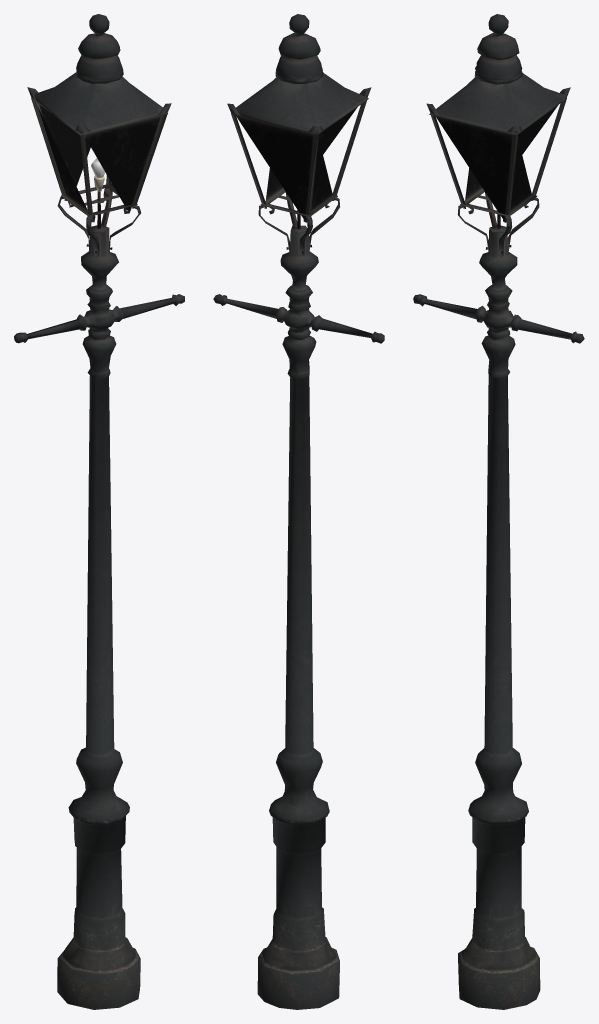
The picture shows the model from 3 angles, left to right: view 1: azimuth 30°, elevation 25°; view 2: azimuth 150°, elevation 25°; view 3: azimuth 330°, elevation 25°; orthographic projection.
Parts seen in each view (by area): view 1: street_lamp_01; view 2: street_lamp_01; view 3: street_lamp_01.
Boxes of the visible parts, left/top/right/bottom form: street_lamp_01: left=14, top=14, right=184, bottom=1009; street_lamp_01: left=213, top=14, right=384, bottom=1009; street_lamp_01: left=413, top=14, right=584, bottom=1009.
Bounding box in the file's own units: 0.7045 × 3.87 × 0.38.
Materials: 3 (3 with a texture image).
